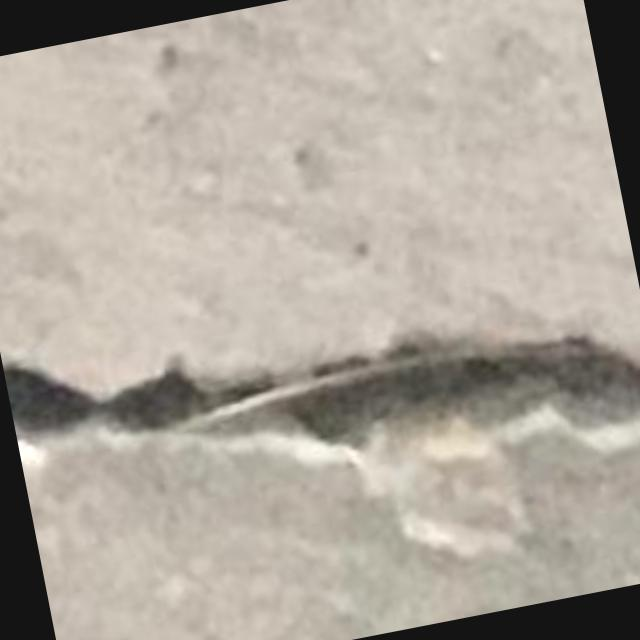crack: (3, 338, 639, 554)
